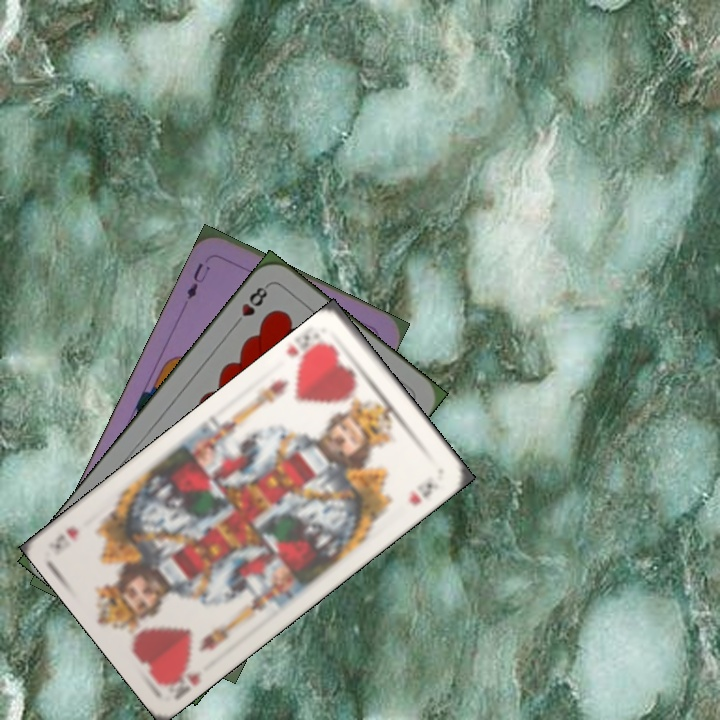EU: (182, 259, 213, 302)
H8: (229, 280, 272, 330)
HK: (282, 337, 330, 369), (170, 666, 204, 702)
